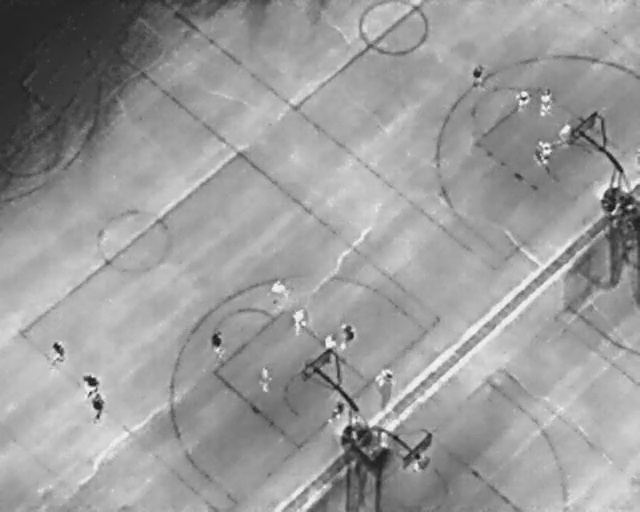Person: (82, 372, 101, 396), (343, 321, 358, 351), (50, 339, 66, 366), (271, 279, 286, 307), (375, 367, 392, 390), (413, 453, 430, 473), (91, 391, 104, 417), (212, 330, 223, 360), (294, 307, 306, 333), (261, 363, 271, 392), (516, 88, 528, 112), (541, 88, 551, 116), (474, 63, 485, 88), (561, 122, 572, 144), (324, 333, 336, 351), (542, 141, 550, 165)
